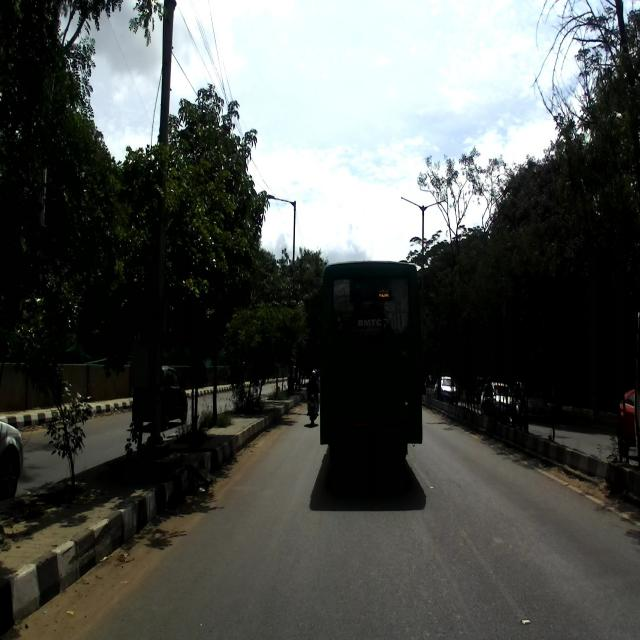bus: (318, 257, 422, 468)
